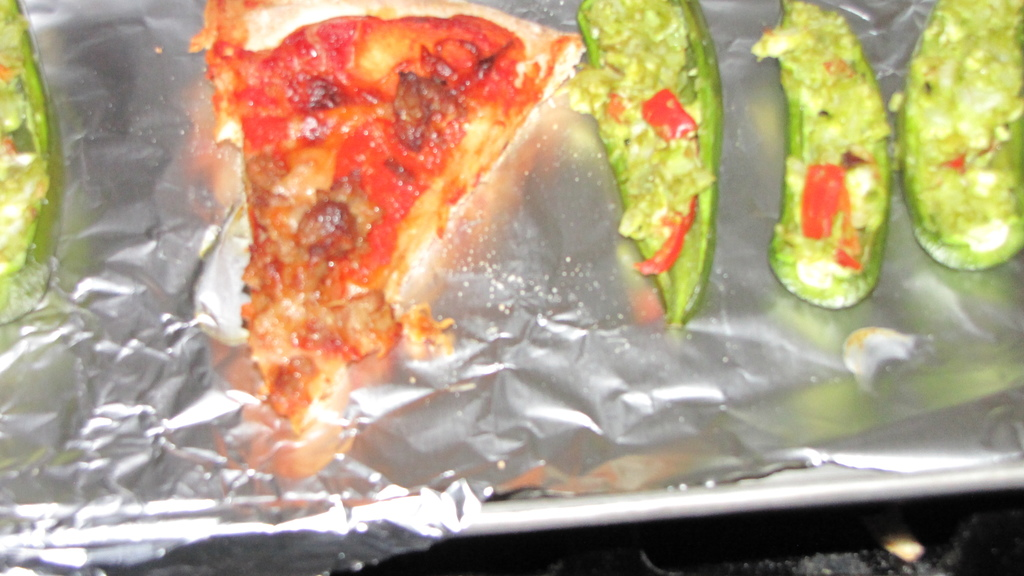Pizza: (208, 0, 570, 432)
